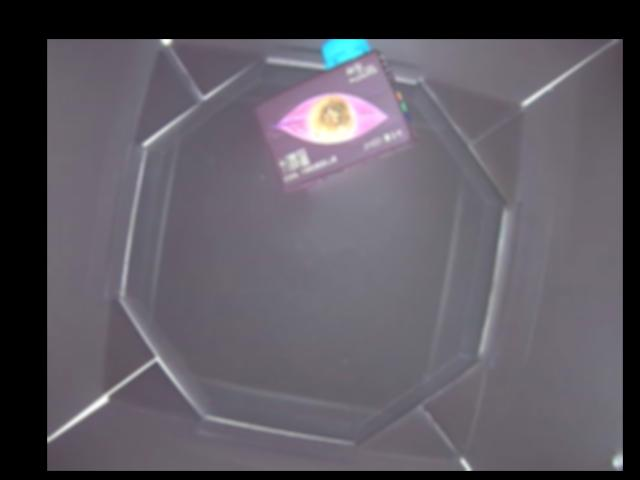Bottle: (253, 40, 412, 193)
